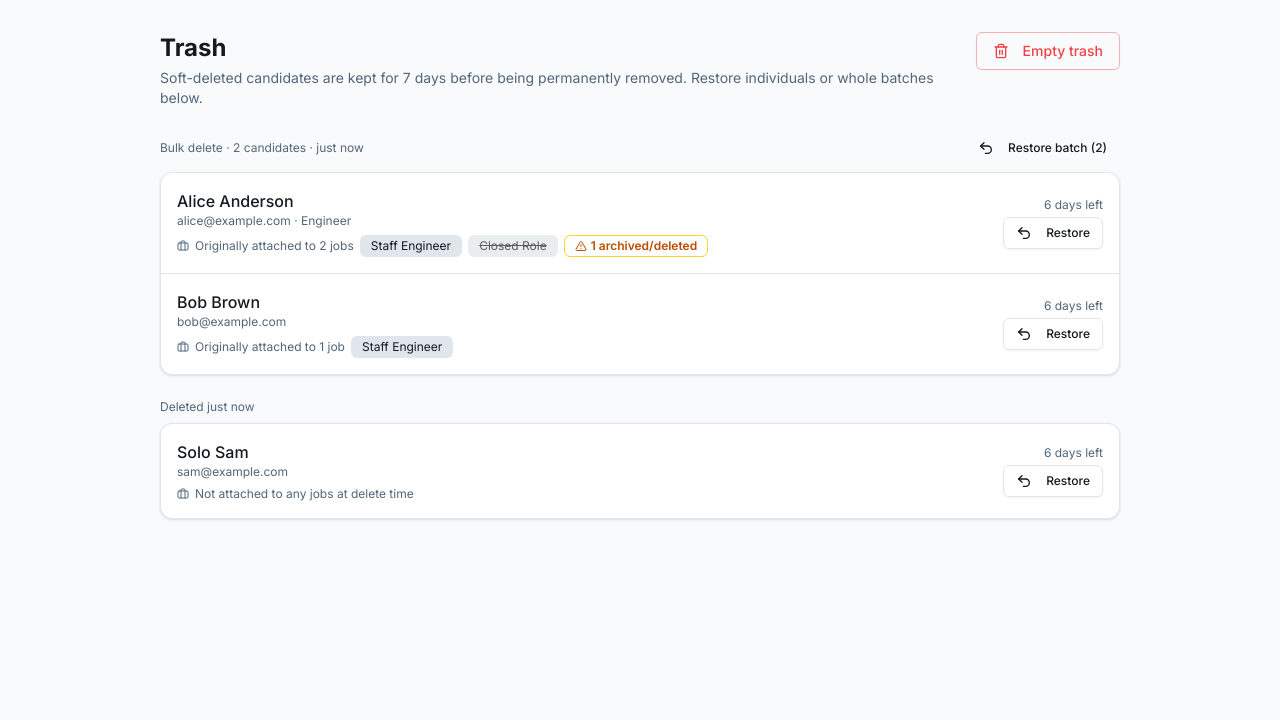
Test: TrashPage › Empty trash requires typing EMPTY before the destructive action enables
The image size is (1280, 720).
Click the button with test id "empty-trash": (1048, 51) [976,32,1120,70]
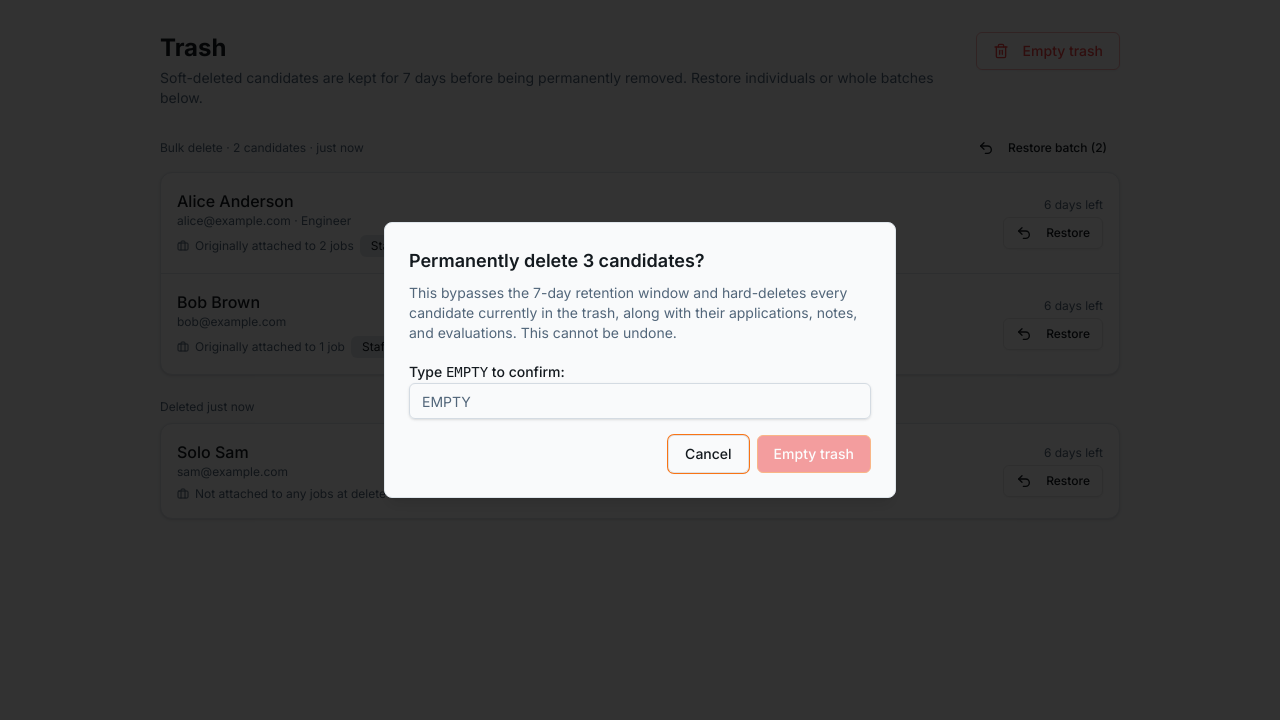
Now the button with test id "empty-trash-confirm" is disabled, box [757,435,871,473]
In the field with test id "empty-trash-confirm-input": (640, 401) [409,383,871,419], type "nope"
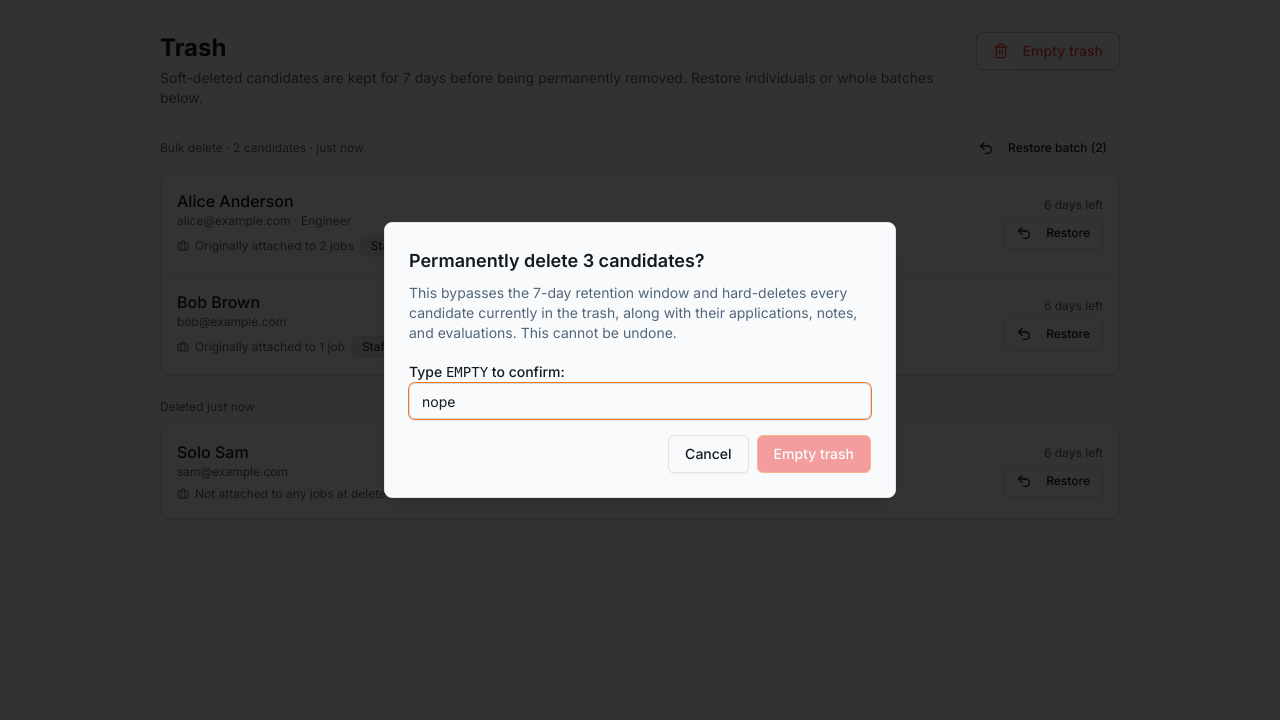
Now the button with test id "empty-trash-confirm" is disabled, box [757,435,871,473]
Replace the text in the field with test id "empty-trash-confirm-input" with "EMPTY": (640, 401) [409,383,871,419]
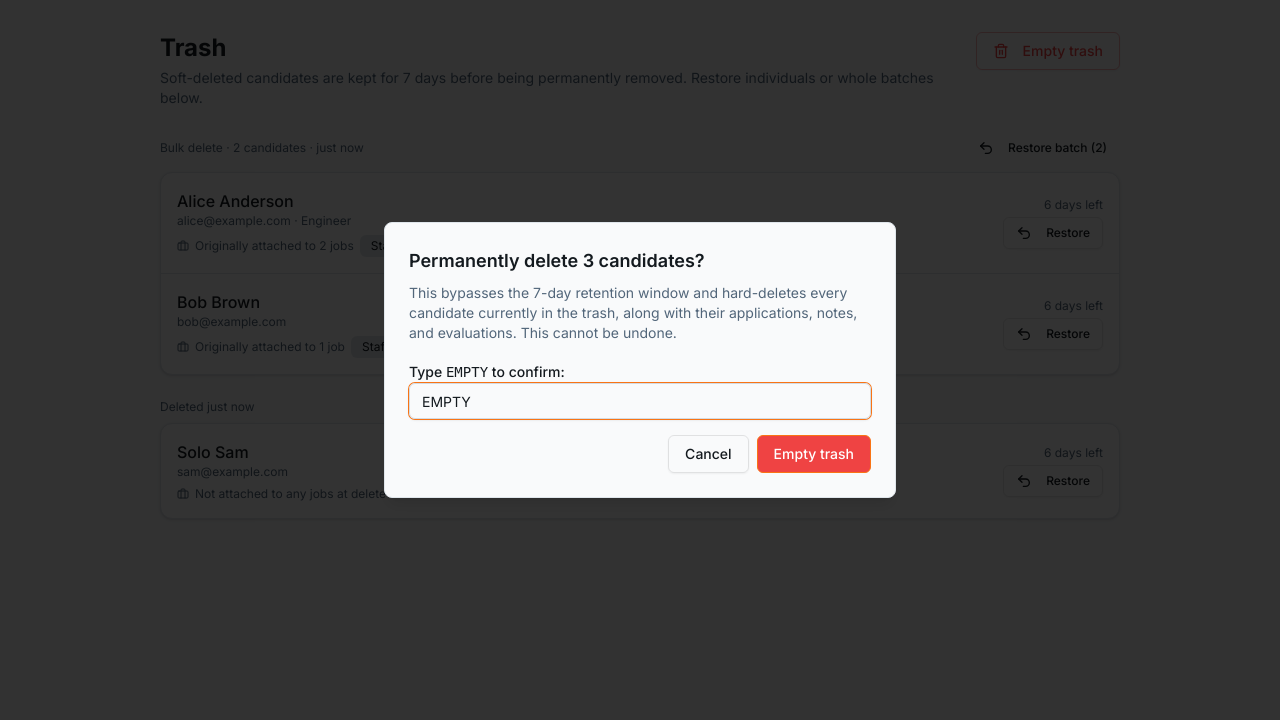
Now the button with test id "empty-trash-confirm" is enabled
Click the button with test id "empty-trash-confirm": (814, 454) [757,435,871,473]
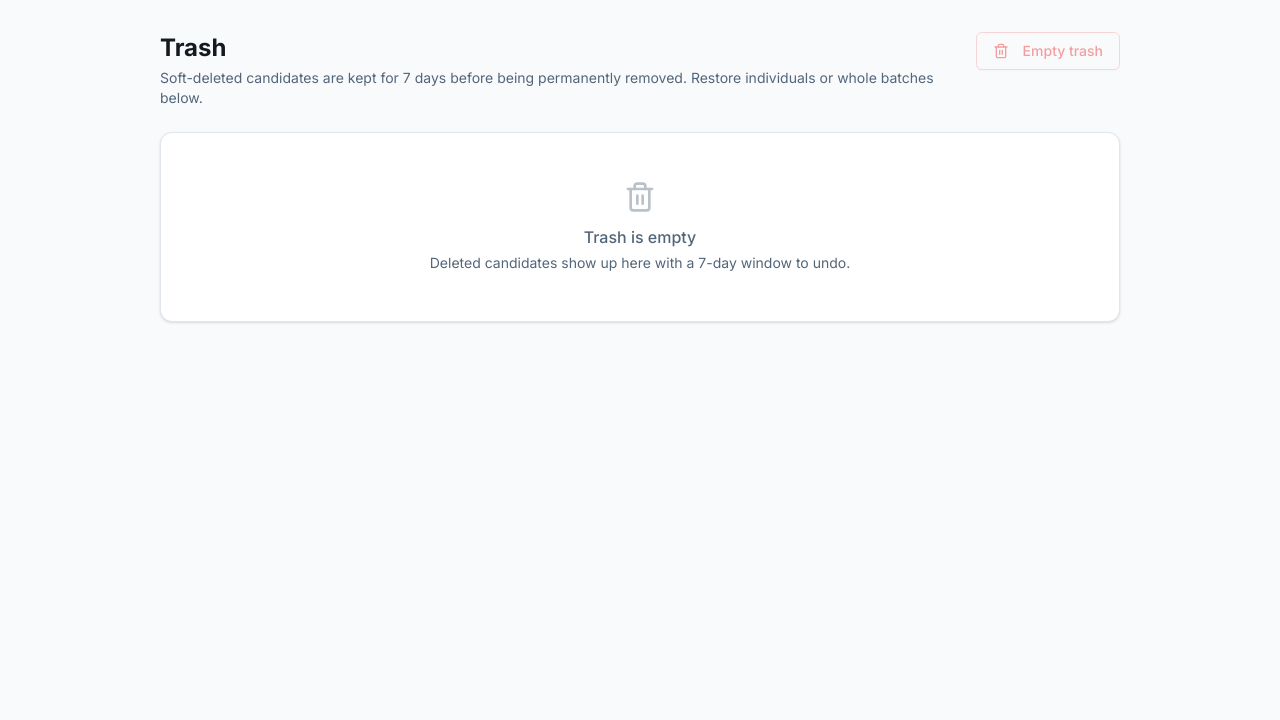
Now the element with test id "trash-row-1" is gone
Now the element with test id "trash-row-2" is gone
Now the element with test id "trash-row-3" is gone
